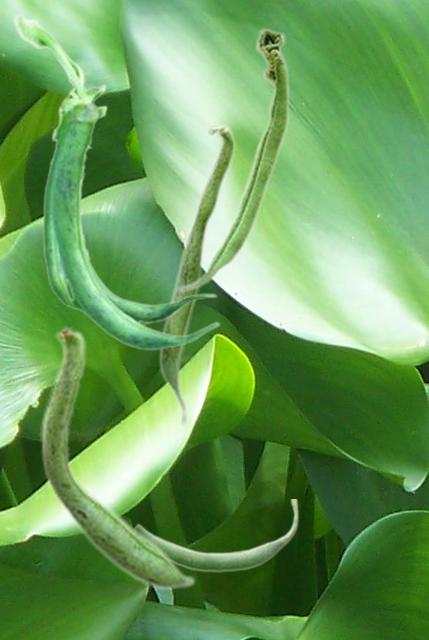french_bean: (12, 13, 219, 350), (40, 324, 195, 590), (176, 26, 289, 292), (158, 123, 235, 428), (134, 499, 298, 572)
